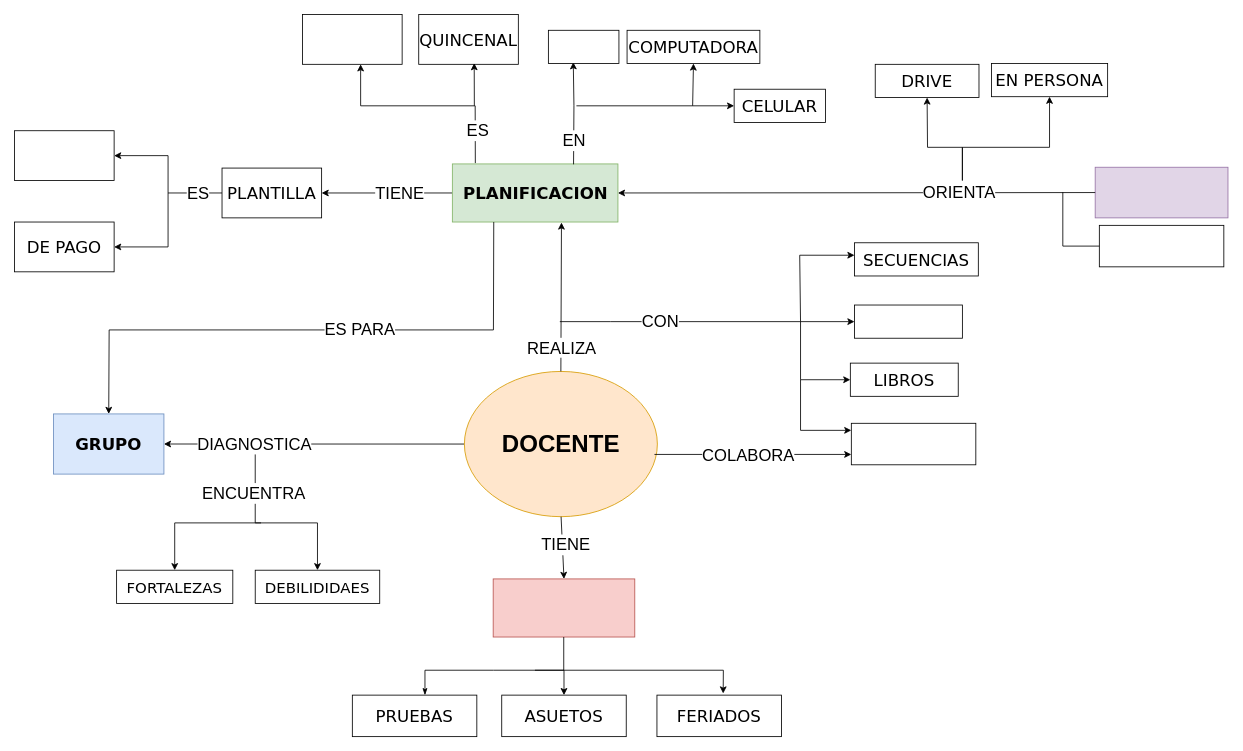
The diagram is 1243 pixels wide and 751 high, and some of its shapes have lost their labels. Each missing label, with the centre of its shape:
"CALENDARIO" goes at pixel 563 607.
"DIRECTORA" goes at pixel 1161 192.
"GRATIS" goes at pixel 64 155.
"INSPECTORA" goes at pixel 1161 246.
"INTERNET" goes at pixel 908 321.
"OTRO DOCENTE" goes at pixel 913 443.
"PAPEL" goes at pixel 583 46.
"SEMANAL" goes at pixel 352 39.
